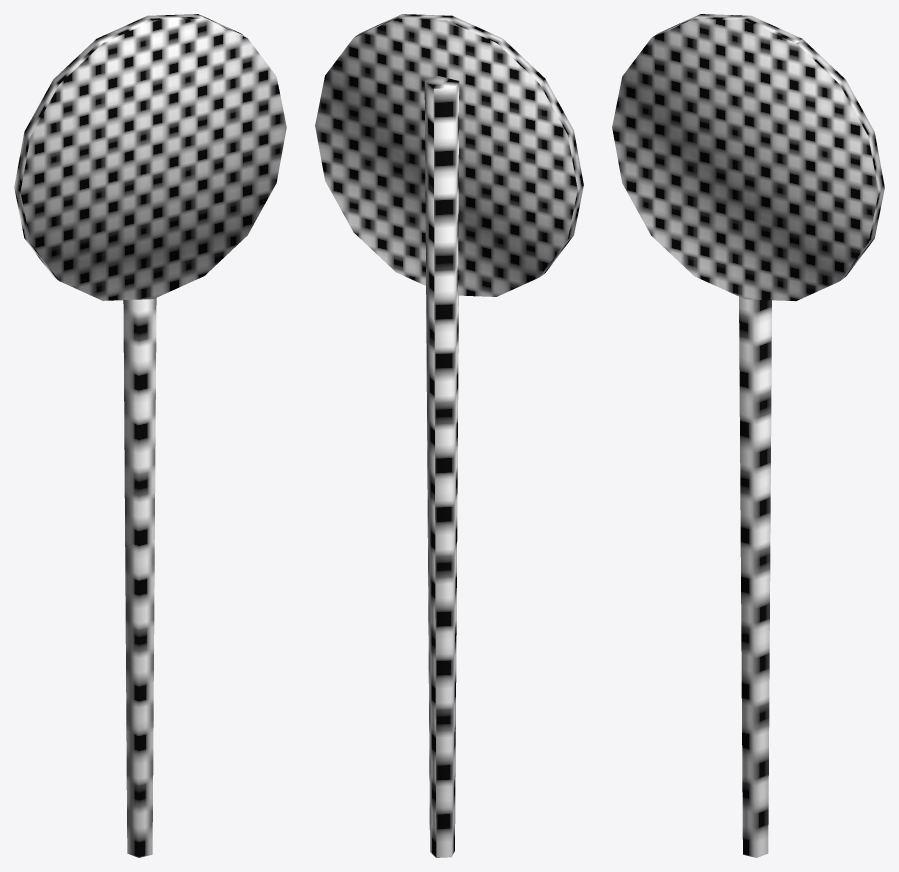
The model's file is Se¤al_Transito_02.obj.
3 renders of one model, left to right at view 1: azimuth 30°, elevation 25°; view 2: azimuth 150°, elevation 25°; view 3: azimuth 330°, elevation 25°, orthographic.
Bounding box in the file's own units: 16.38 × 49.38 × 2.22.
